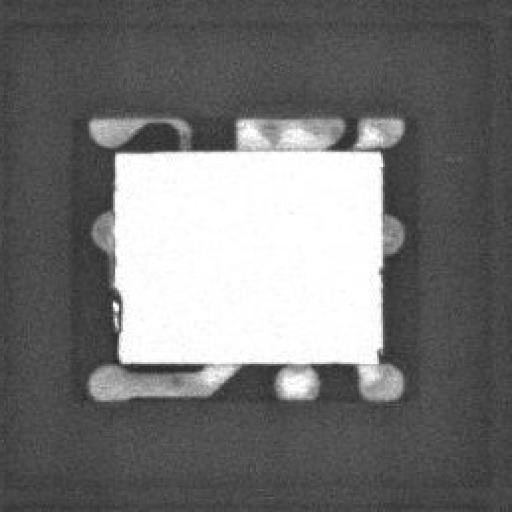DIE_BROKEN: (107, 280, 123, 336)
